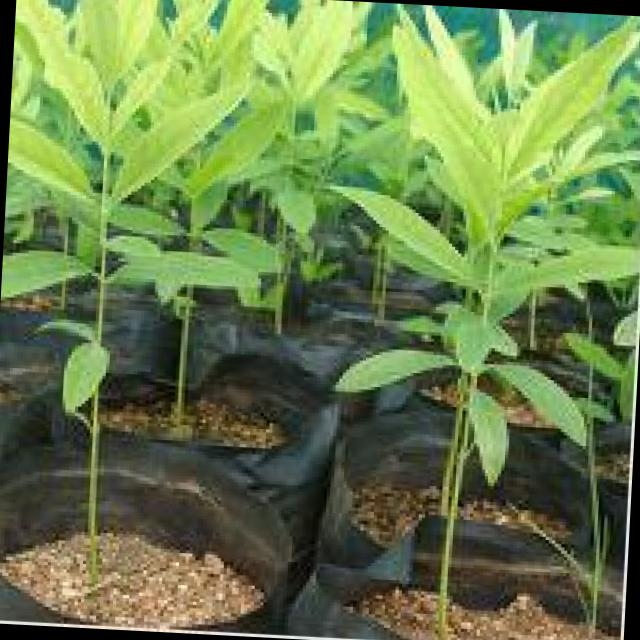Sandalwood: (1, 31, 640, 640), (7, 0, 457, 423), (385, 4, 640, 512), (154, 158, 384, 418)
